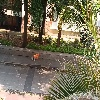fire: (33, 53, 41, 60)
